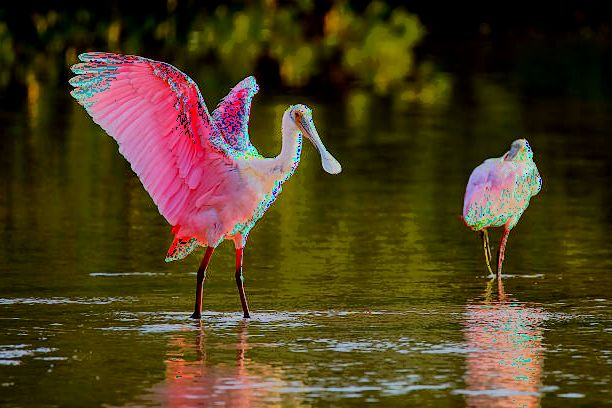Bird: (66, 45, 346, 325), (459, 136, 542, 284)
